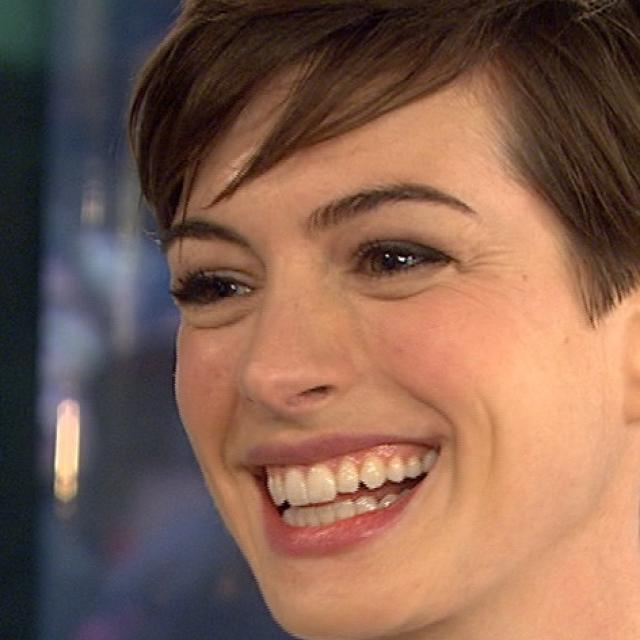Normal: (166, 69, 617, 639)
